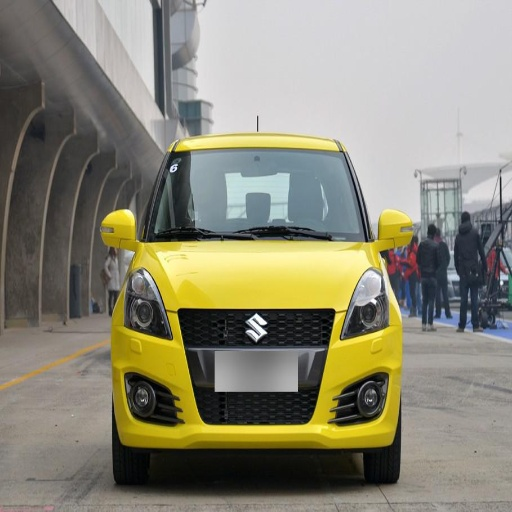front_bumper: (115, 308, 401, 448)
front_right_light: (125, 271, 172, 340)
hood: (141, 242, 373, 309)
